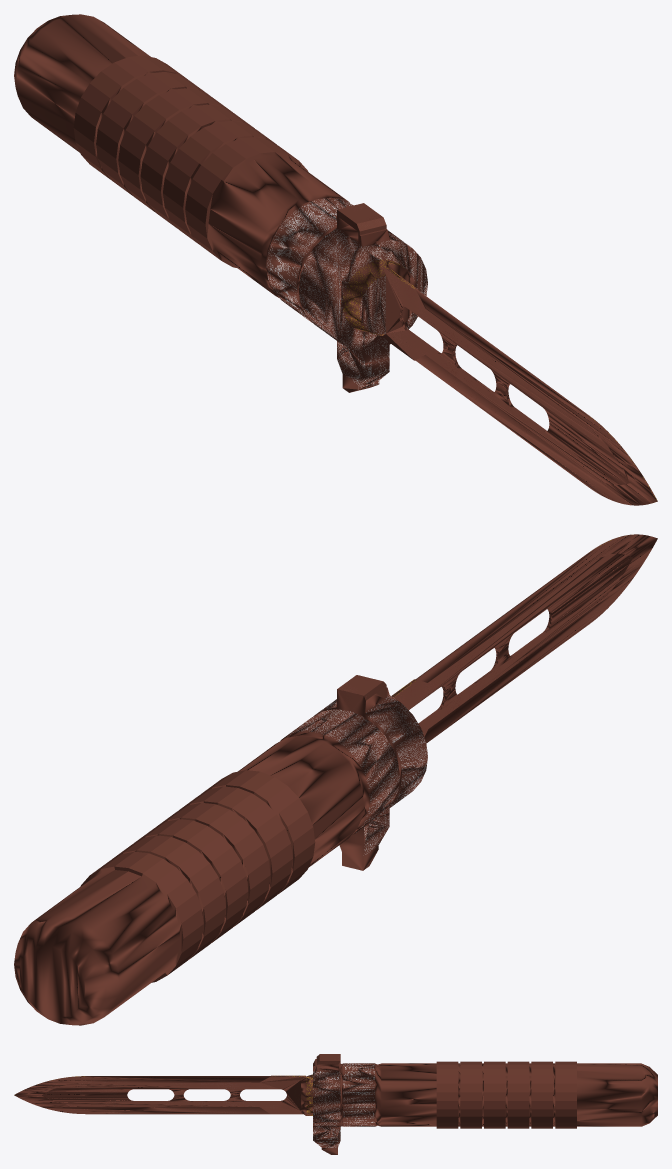
File: model_align.obj
3 views of the same model, one above another, from view 1: azimuth 30°, elevation 25°; view 2: azimuth 150°, elevation 25°; view 3: azimuth 270°, elevation 25° (orthographic). The views are drawn at different scales.
Size of the model in its own units: 0.0249 by 0.0385 by 0.2375.
